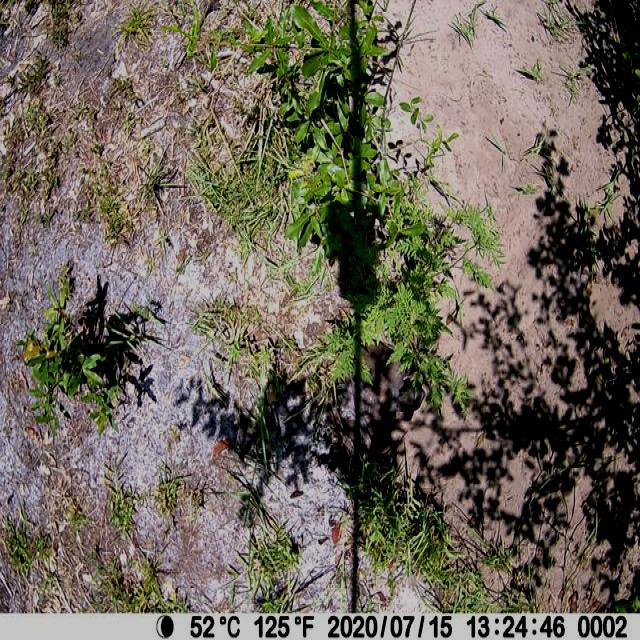tortoise: (315, 336, 425, 450)
